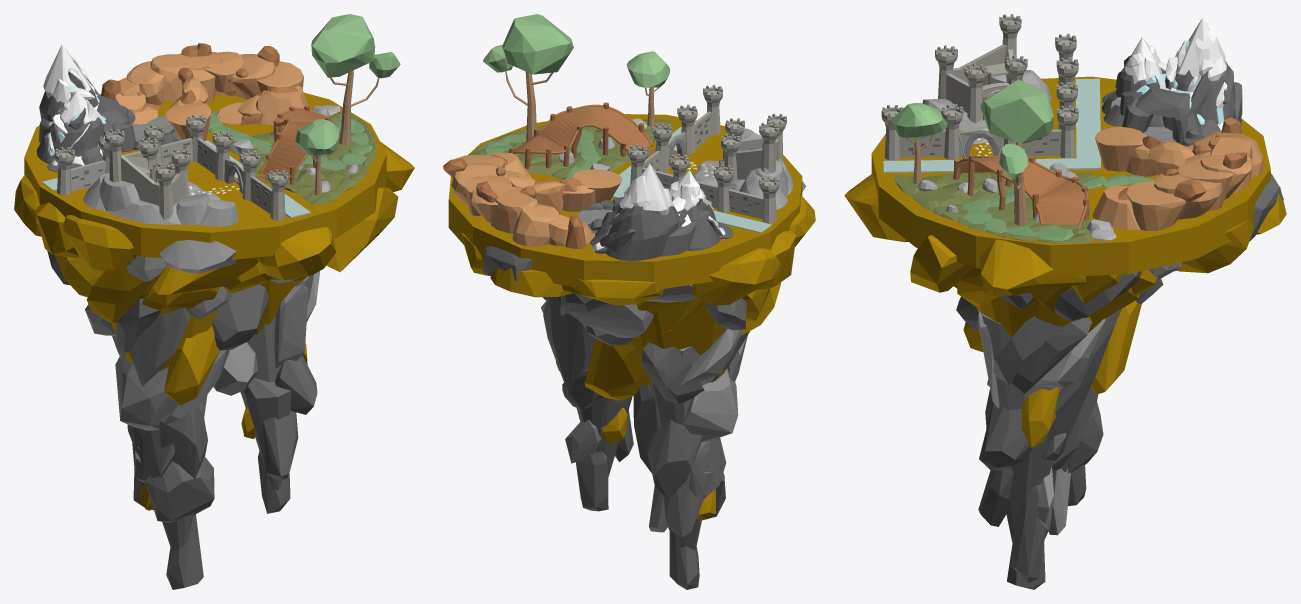
The model's file is tower_defense_map.glb.
3 renders of one model, left to right at view 1: azimuth 30°, elevation 25°; view 2: azimuth 150°, elevation 25°; view 3: azimuth 270°, elevation 25°, orthographic. The views are drawn at different scales.
Visible parts, largest first — view 1: map RAW.028, Castle, tree1, pathRiver, bridge, tree2; view 2: map RAW.028, Castle, tree1, bridge, pathRiver, tree2; view 3: map RAW.028, Castle, pathRiver, tree1, bridge, tree2.
Part boxes in pixels (x1,y1,x2,y2): map RAW.028: (14,43,414,589); Castle: (54,114,288,226); tree1: (311,14,400,144); pathRiver: (42,110,372,218); bridge: (259,104,340,184); tree2: (295,119,339,195); map RAW.028: (443,114,815,589); Castle: (627,84,793,223); tree1: (483,14,573,141); bridge: (507,102,653,168); pathRiver: (482,127,771,232); tree2: (626,51,669,126); map RAW.028: (844,18,1286,589); Castle: (881,14,1078,160); pathRiver: (883,78,1154,240); tree1: (980,80,1053,225); bridge: (953,154,1089,228); tree2: (891,103,947,183).
Bounding box in the file's own units: 50.11 × 73.8 × 50.46.
